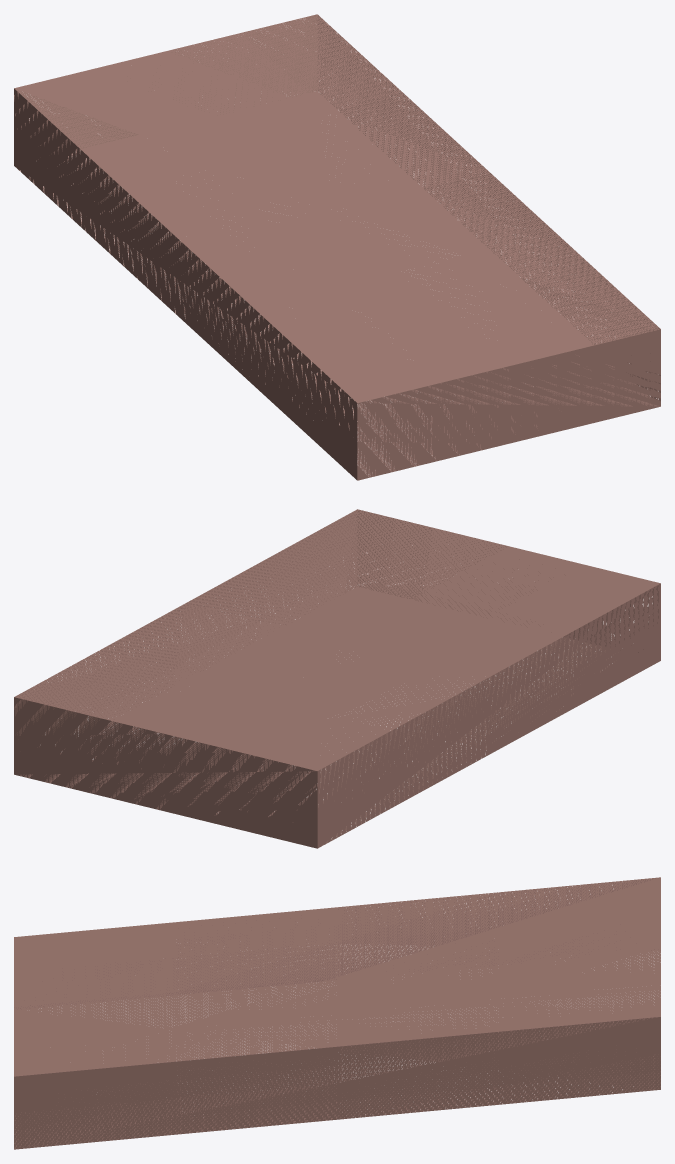
Rendered from SW_ENV_EL_Station_Roof_A_02_Collision.fbx.
The picture shows the model from 3 angles, top to bottom: view 1: azimuth 30°, elevation 25°; view 2: azimuth 150°, elevation 25°; view 3: azimuth 270°, elevation 25°; orthographic projection. The views are drawn at different scales.
Visible parts, largest first — view 1: SW_ENV_EL_Station_Roof_A_02_Collision; view 2: SW_ENV_EL_Station_Roof_A_02_Collision; view 3: SW_ENV_EL_Station_Roof_A_02_Collision.
Boxes of the visible parts, x1=… form: SW_ENV_EL_Station_Roof_A_02_Collision: x1=14, y1=14, x2=660, y2=480; SW_ENV_EL_Station_Roof_A_02_Collision: x1=14, y1=509, x2=660, y2=848; SW_ENV_EL_Station_Roof_A_02_Collision: x1=14, y1=877, x2=660, y2=1149.
Size of the model in its own units: 250 by 111 by 490.
